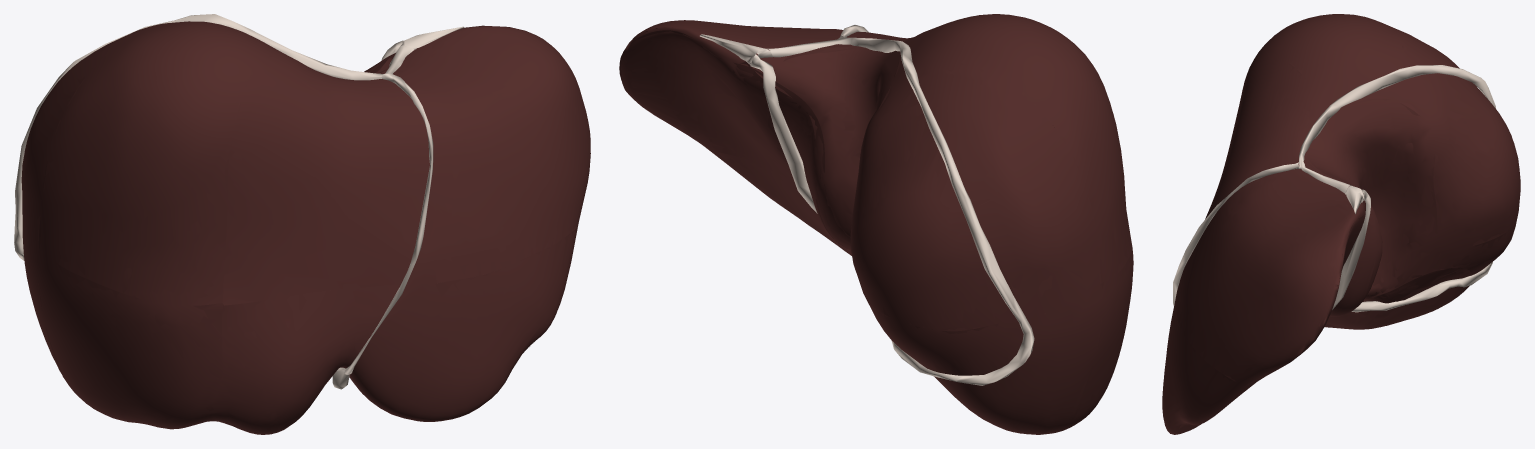
The model's file is vh_f_liver.glb.
The picture shows the model from 3 angles, left to right: view 1: azimuth 30°, elevation 25°; view 2: azimuth 150°, elevation 25°; view 3: azimuth 270°, elevation 25°; orthographic projection. The views are drawn at different scales.
Visible parts, largest first — view 1: VH_F_capsule_of_the_liver, VH_F_left_superomedial_segment1, VH_F_right_anterosuperior_segment, VH_F_left_superomedial_segment, VH_F_left_inferomedial_segment, VH_F_right_anteroinferior_segment, VH_F_left_anterolateral_segment, VH_F_coronary_ligament_of_liver, VH_F_falciform_ligament, VH_F_right_posterosuperior_segment; view 2: VH_F_capsule_of_the_liver, VH_F_bare_area_of_liver, VH_F_right_posterosuperior_segment, VH_F_diaphragmatic_surface_of_liver, VH_F_left_superomedial_segment, VH_F_coronary_ligament_of_liver, VH_F_caudate_lobe, VH_F_right_anterosuperior_segment, VH_F_right_posteroinferior_segment, VH_F_ligamentum_venosum, VH_F_gastric_impression_of_liver, VH_F_left_anterolateral_segment (+2 smaller); view 3: VH_F_capsule_of_the_liver, VH_F_bare_area_of_liver, VH_F_left_superomedial_segment, VH_F_caudate_lobe, VH_F_right_posterosuperior_segment, VH_F_coronary_ligament_of_liver, VH_F_left_superomedial_segment1, VH_F_diaphragmatic_surface_of_liver, VH_F_left_anterolateral_segment, VH_F_falciform_ligament, VH_F_ligamentum_venosum, VH_F_right_anterosuperior_segment (+3 smaller).
Part boxes in pixels (box(x1,y1,x2,y2)): VH_F_capsule_of_the_liver: box(21, 21, 590, 434); VH_F_left_superomedial_segment1: box(222, 55, 433, 305); VH_F_right_anterosuperior_segment: box(38, 21, 272, 305); VH_F_left_superomedial_segment: box(380, 27, 590, 284); VH_F_left_inferomedial_segment: box(208, 284, 398, 433); VH_F_right_anteroinferior_segment: box(38, 248, 223, 426); VH_F_left_anterolateral_segment: box(349, 227, 577, 419); VH_F_coronary_ligament_of_liver: box(14, 14, 413, 260); VH_F_falciform_ligament: box(344, 73, 433, 374); VH_F_right_posterosuperior_segment: box(22, 29, 145, 247); VH_F_capsule_of_the_liver: box(620, 14, 1133, 434); VH_F_bare_area_of_liver: box(751, 47, 1023, 375); VH_F_right_posterosuperior_segment: box(851, 61, 1101, 331); VH_F_diaphragmatic_surface_of_liver: box(619, 30, 998, 426); VH_F_left_superomedial_segment: box(622, 21, 842, 178); VH_F_coronary_ligament_of_liver: box(766, 36, 1034, 385); VH_F_caudate_lobe: box(778, 47, 899, 248); VH_F_right_anterosuperior_segment: box(895, 14, 1131, 282); VH_F_right_posteroinferior_segment: box(866, 283, 1101, 434); VH_F_ligamentum_venosum: box(750, 54, 817, 213); VH_F_gastric_impression_of_liver: box(669, 60, 850, 253); VH_F_left_anterolateral_segment: box(718, 152, 845, 248); VH_F_capsule_of_the_liver: box(1162, 14, 1472, 434); VH_F_bare_area_of_liver: box(1306, 74, 1520, 299); VH_F_left_superomedial_segment: box(1176, 172, 1365, 381); VH_F_caudate_lobe: box(1305, 98, 1440, 316); VH_F_right_posterosuperior_segment: box(1393, 30, 1520, 245); VH_F_coronary_ligament_of_liver: box(1299, 65, 1495, 312); VH_F_left_superomedial_segment1: box(1198, 57, 1325, 241); VH_F_diaphragmatic_surface_of_liver: box(1170, 201, 1495, 433); VH_F_left_anterolateral_segment: box(1162, 298, 1237, 431); VH_F_falciform_ligament: box(1173, 162, 1298, 305); VH_F_ligamentum_venosum: box(1332, 189, 1370, 309); VH_F_right_anterosuperior_segment: box(1251, 14, 1393, 101).
Bounding box in the file's own units: 0.2472 × 0.17 × 0.1663.
